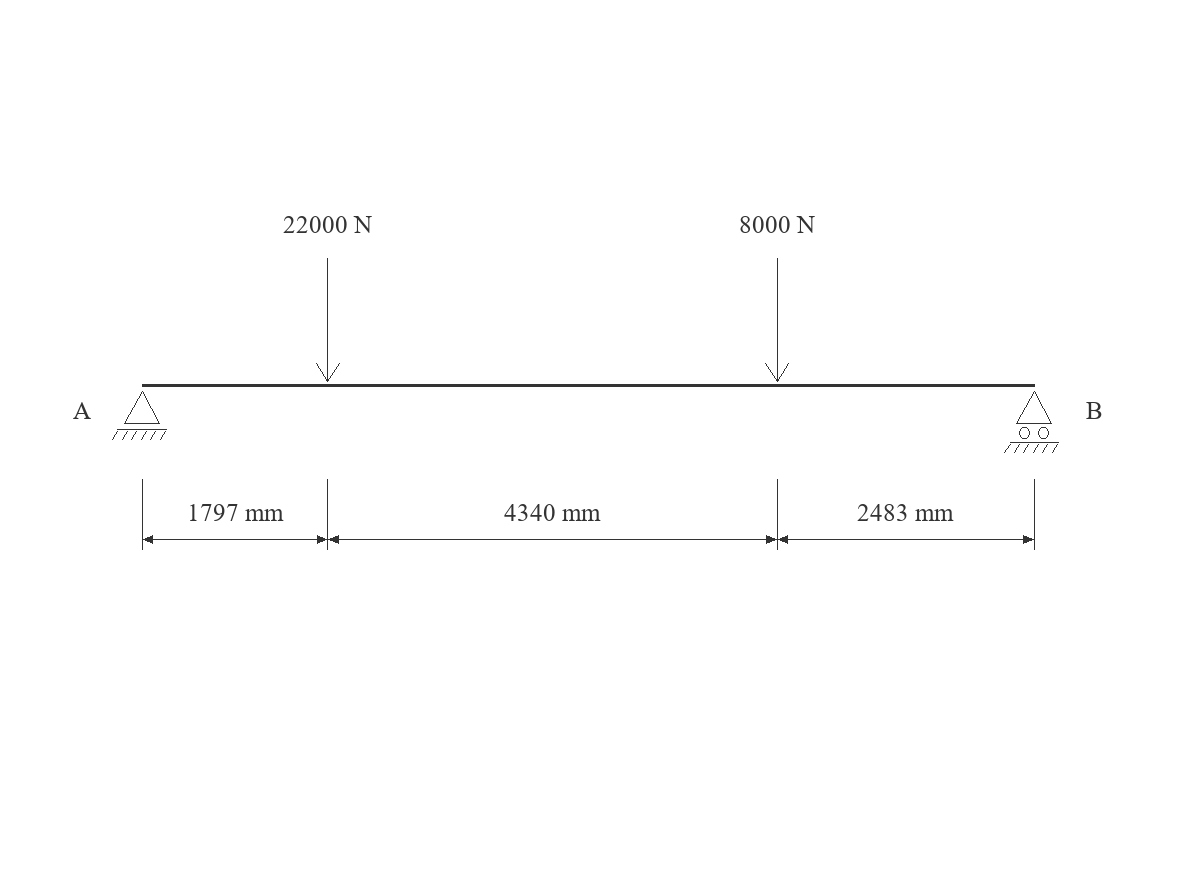pin_support: (112, 391, 167, 440)
point_load: (316, 258, 340, 382), (765, 258, 789, 382)
roller_support: (1004, 391, 1059, 453)
